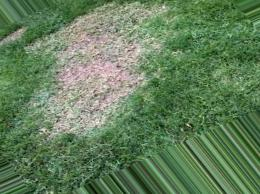patch: (76, 32, 132, 89), (59, 76, 103, 127), (88, 16, 155, 37)
